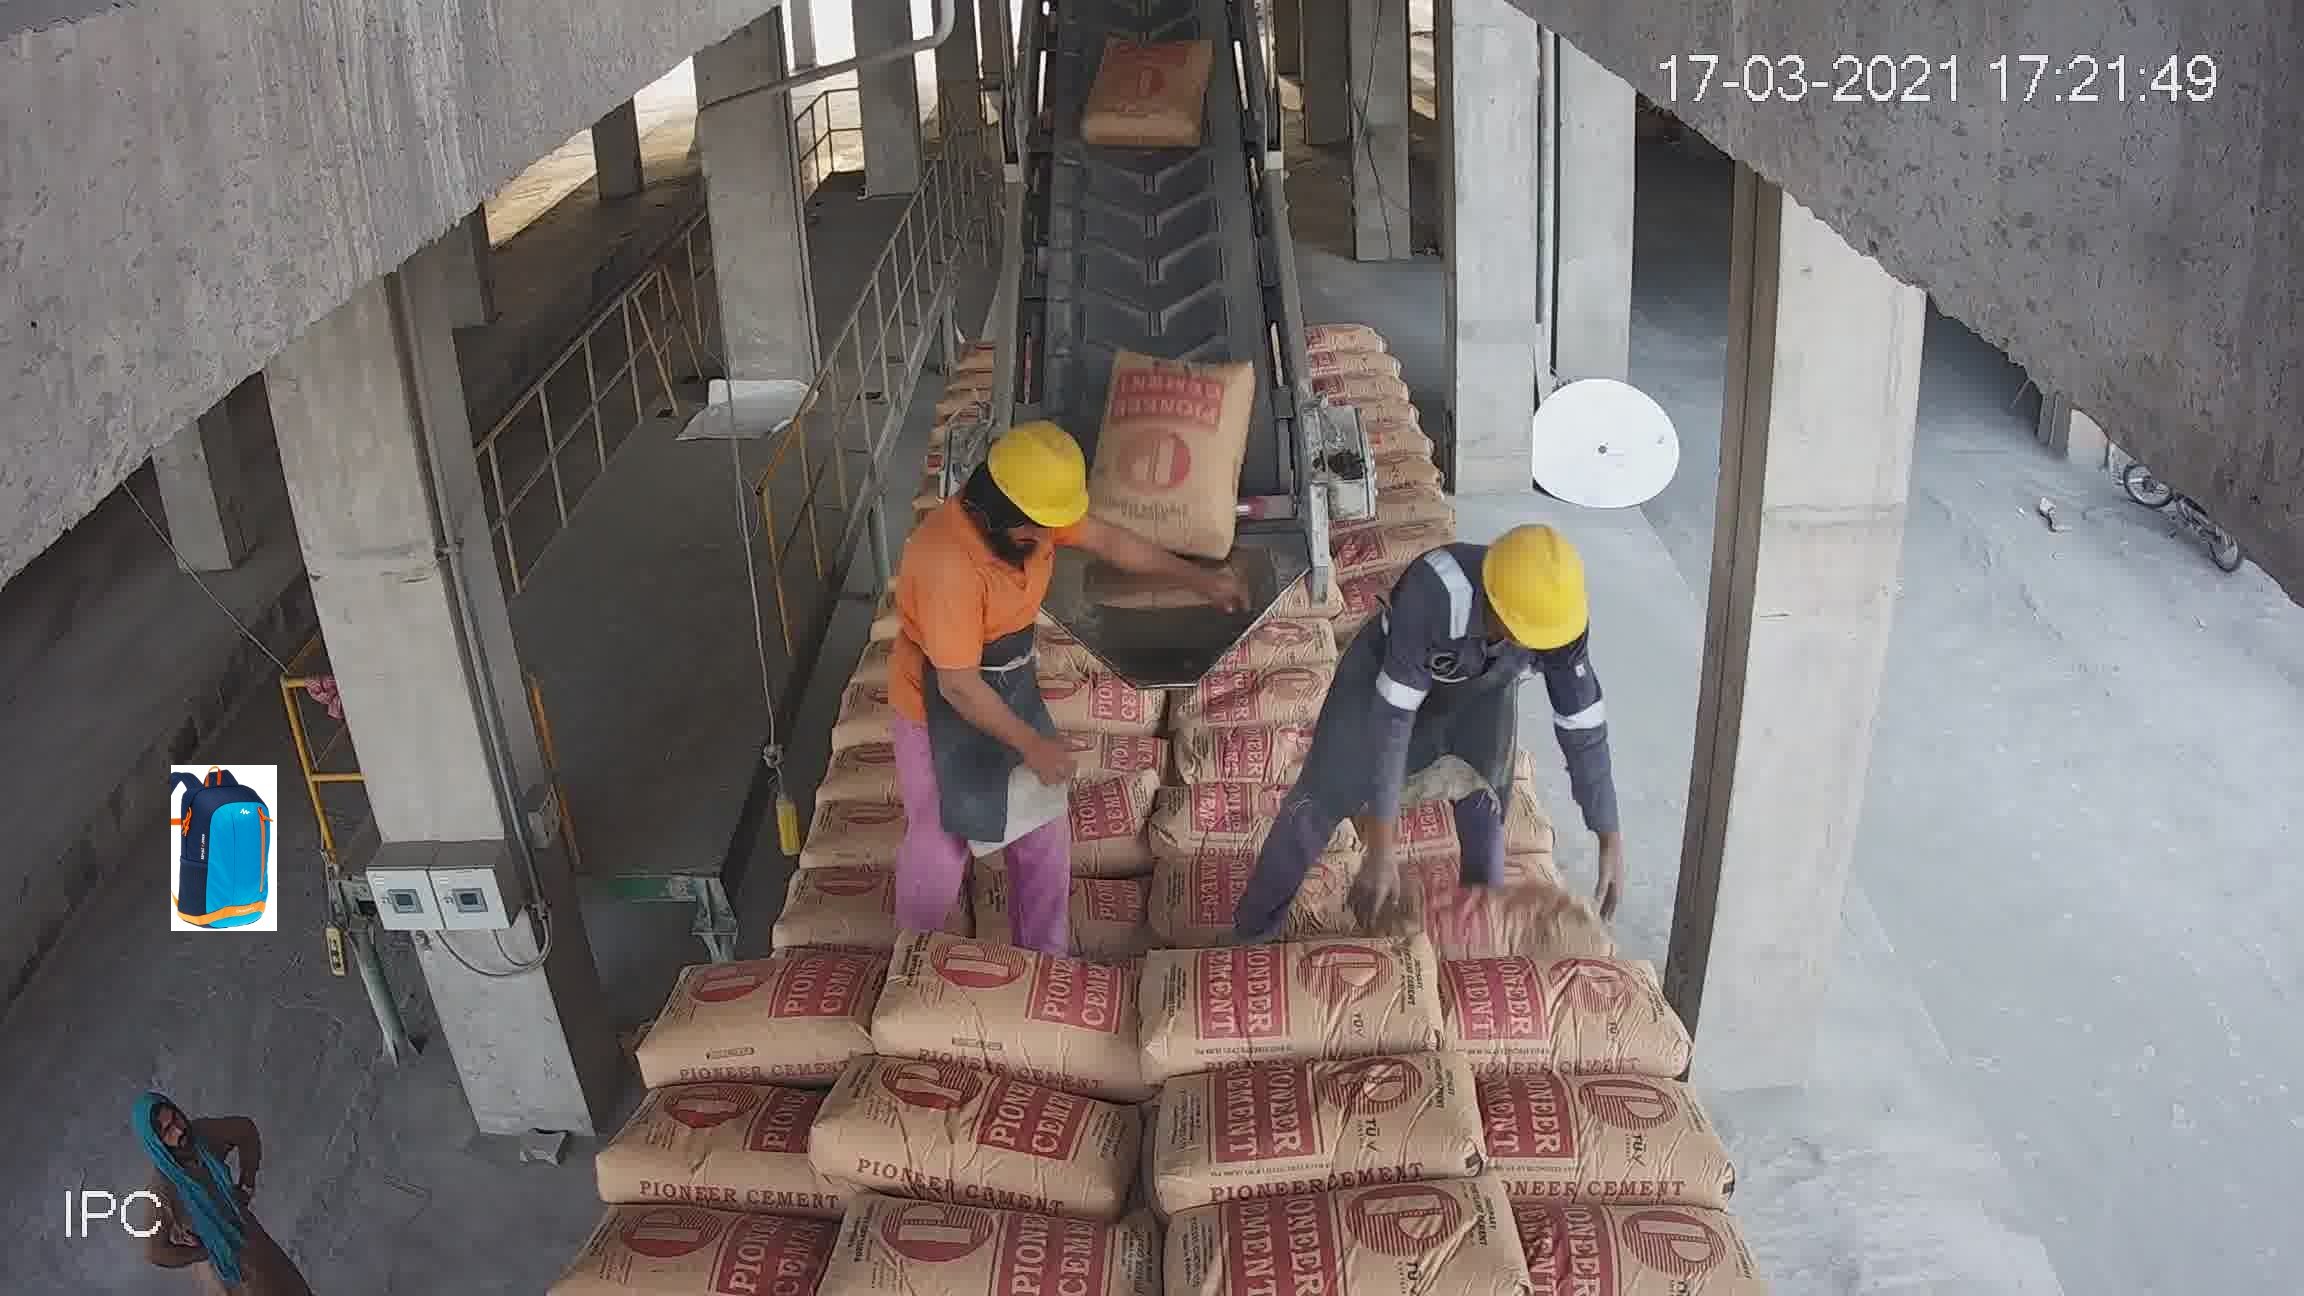bag_h: (1143, 1044, 1492, 1201), (1150, 1165, 1554, 1296), (809, 1063, 1150, 1193), (1127, 813, 1438, 948), (873, 934, 1149, 1086), (641, 943, 921, 1089), (585, 1048, 840, 1207), (1157, 930, 1438, 1068), (1119, 726, 1402, 845), (1495, 1043, 1703, 1203), (510, 1198, 853, 1290), (788, 1211, 1161, 1293), (1538, 1184, 1804, 1294), (873, 862, 1166, 956), (1453, 953, 1701, 1062), (891, 745, 1157, 840), (1435, 847, 1635, 965), (722, 777, 904, 878), (1386, 774, 1598, 859), (679, 878, 875, 961), (1161, 551, 1345, 631), (1177, 585, 1329, 677), (1152, 661, 1320, 736), (1014, 570, 1184, 639), (1017, 649, 1149, 734), (1021, 612, 1188, 666), (1199, 510, 1320, 581), (881, 498, 1041, 546), (908, 451, 1029, 506), (945, 530, 1052, 590), (1011, 726, 1185, 763), (1057, 538, 1161, 582)
belt: (1011, 2, 1299, 519)
